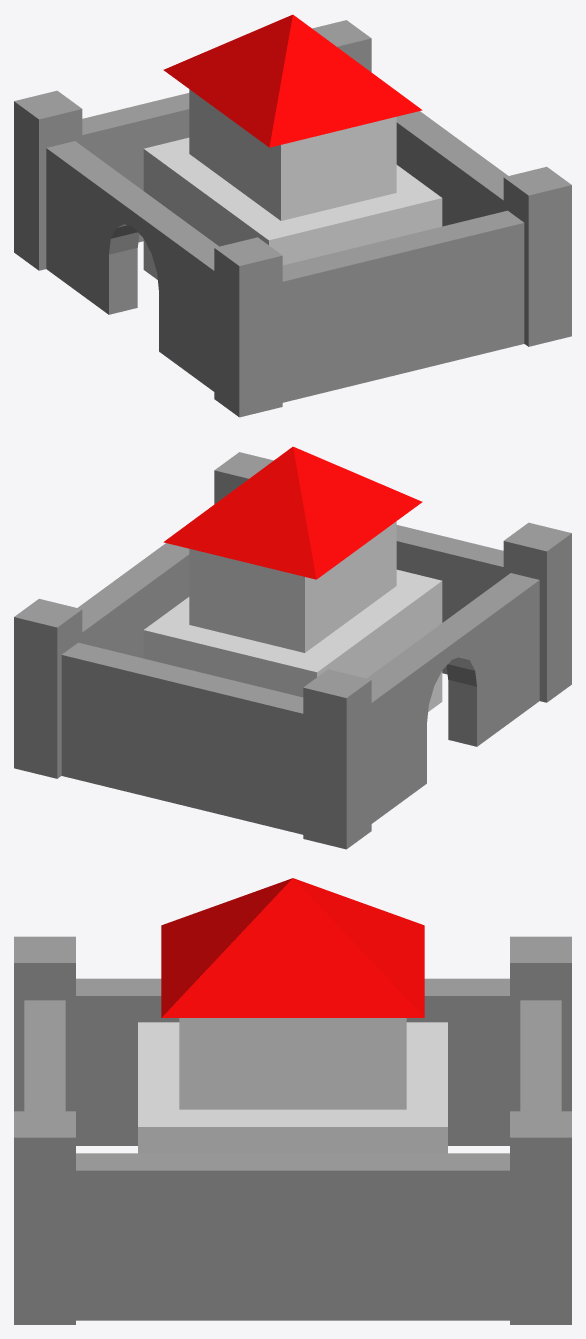
Rendered from Castle.fbx.
The picture shows the model from 3 angles, top to bottom: view 1: azimuth 30°, elevation 25°; view 2: azimuth 150°, elevation 25°; view 3: azimuth 270°, elevation 25°; orthographic projection. The views are drawn at different scales.
Parts seen in each view (by area): view 1: Castle; view 2: Castle; view 3: Castle.
Boxes of the visible parts, x1,y1,x2,y2 form: Castle: [14, 14, 571, 417]; Castle: [14, 446, 571, 849]; Castle: [14, 878, 571, 1324].
Bounding box in the file's own units: 230 × 185 × 270.
